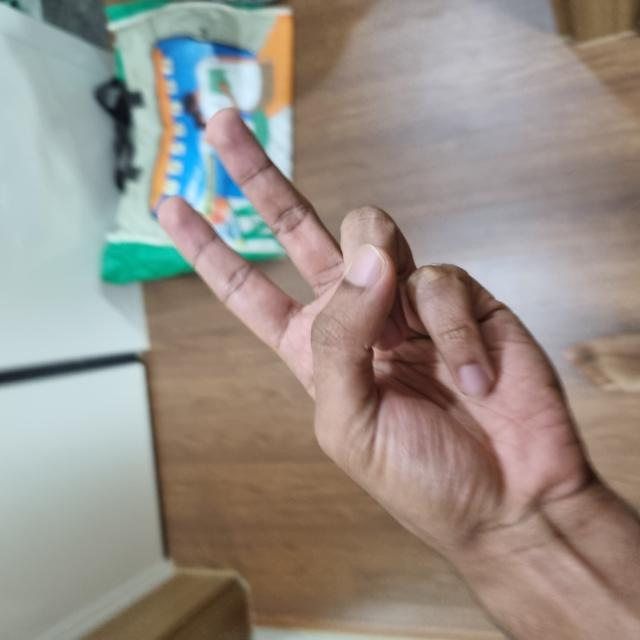Scissors: (72, 316, 389, 577)
